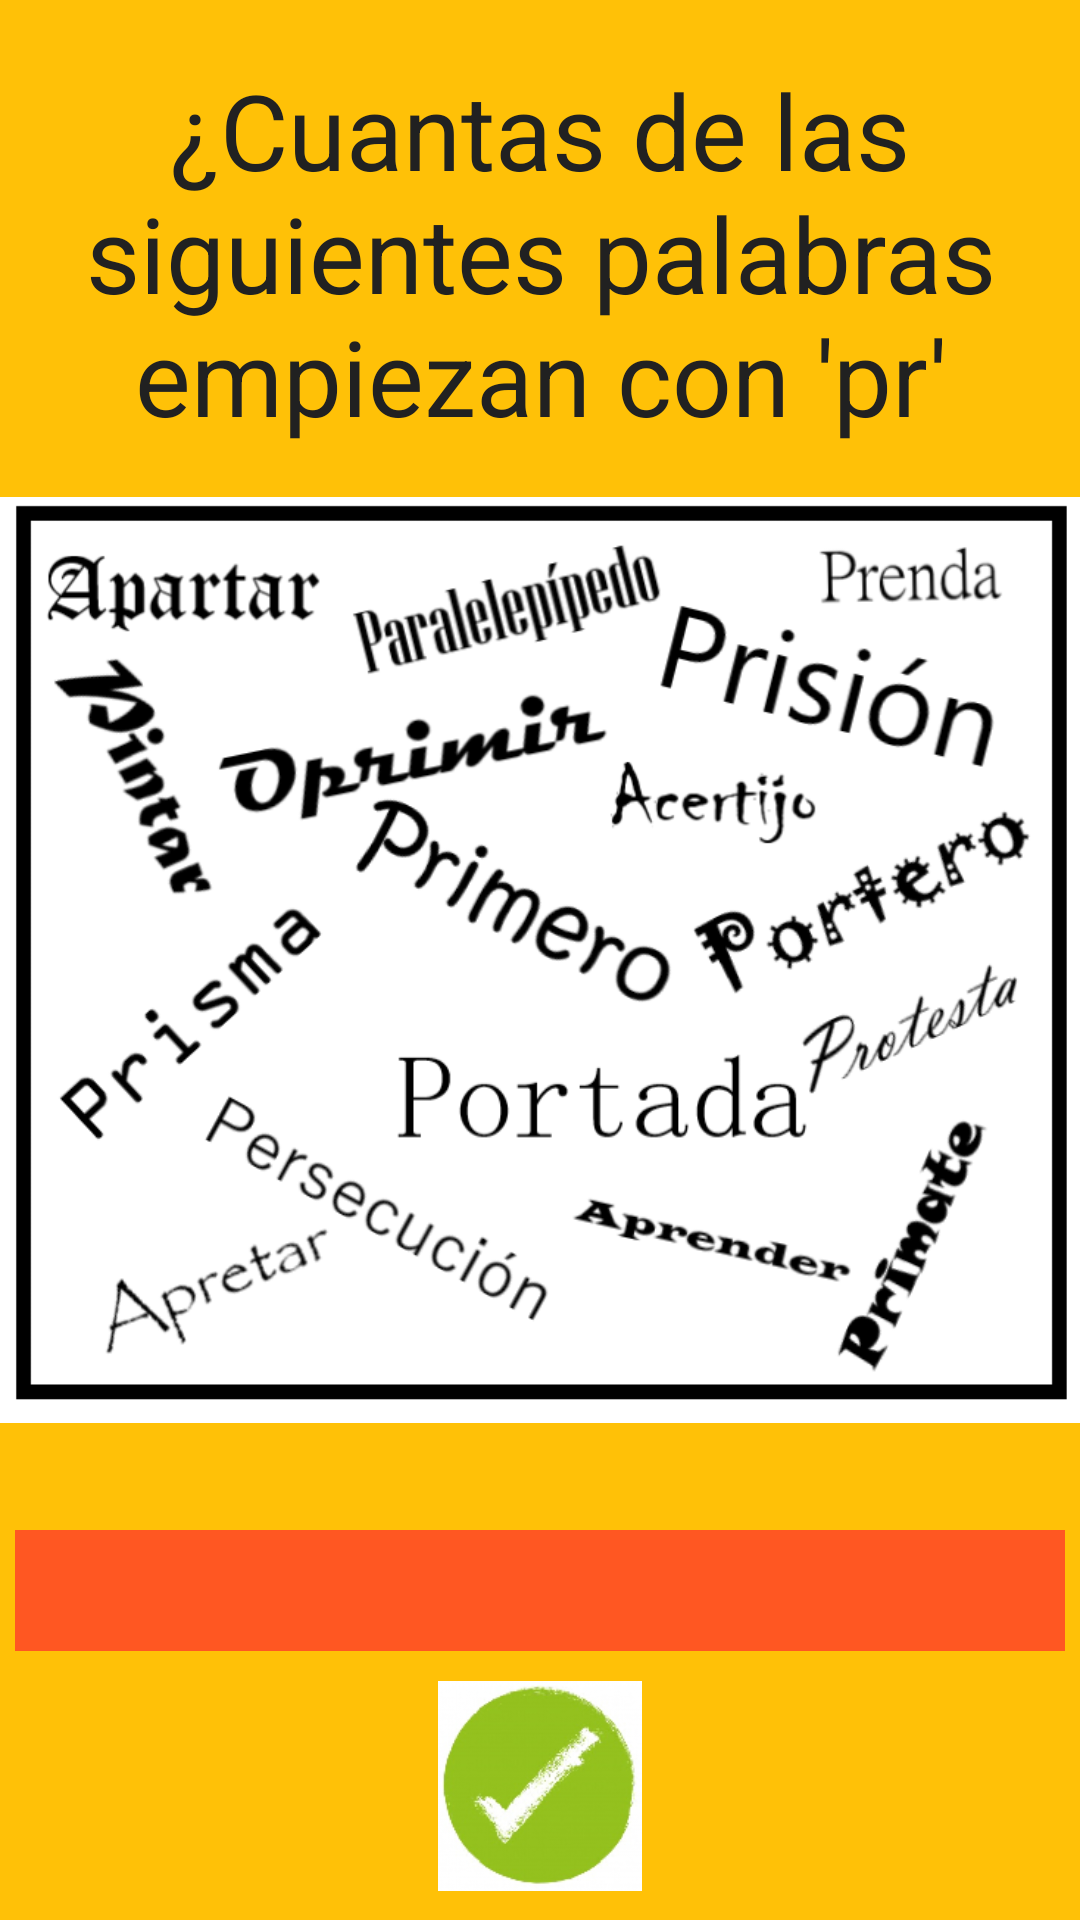

Screen size 1080×1920. Icon name, then its center in pixels as (x,y):
check: (540,1786)
